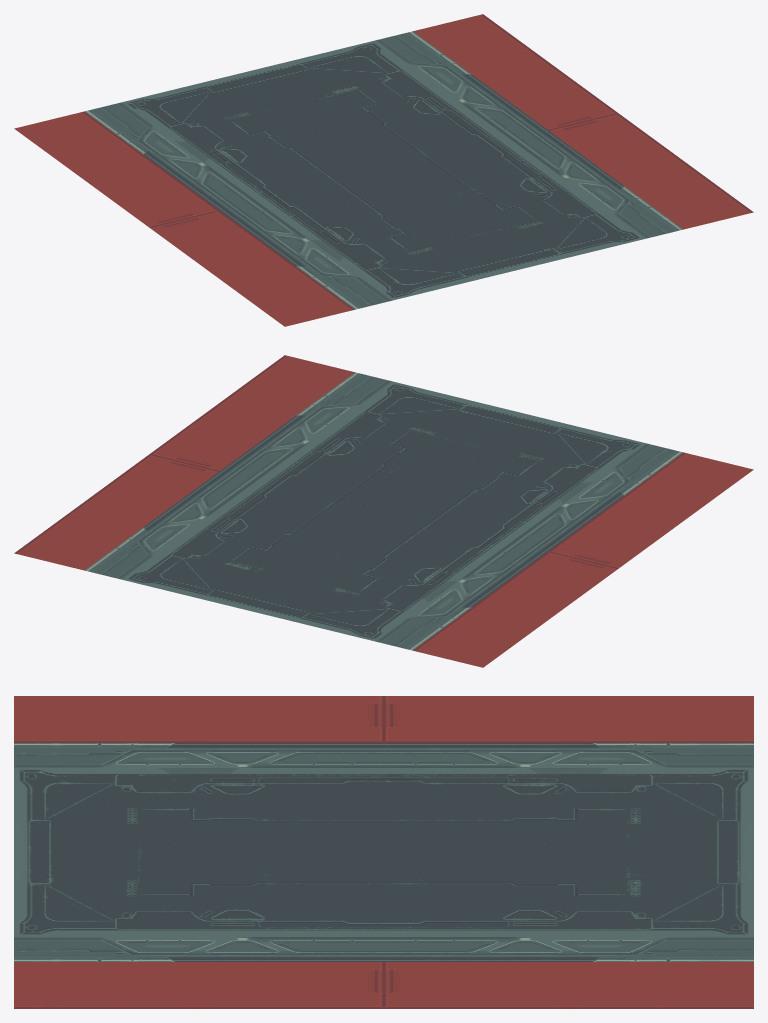
Rendered from DockPlate.gltf.
3 views of the same model, one above another, from view 1: azimuth 30°, elevation 25°; view 2: azimuth 150°, elevation 25°; view 3: azimuth 270°, elevation 25° (orthographic). The views are drawn at different scales.
Visible parts, largest first — view 1: Platform_CenterPlate; view 2: Platform_CenterPlate; view 3: Platform_CenterPlate.
Boxes of the visible parts, left/top/right/bottom form: Platform_CenterPlate: left=14, top=14, right=753, bottom=326; Platform_CenterPlate: left=14, top=355, right=753, bottom=667; Platform_CenterPlate: left=14, top=696, right=753, bottom=1008.
Size of the model in its own units: 4 by 2.84e-14 by 4.
2 materials, 2 textured.
